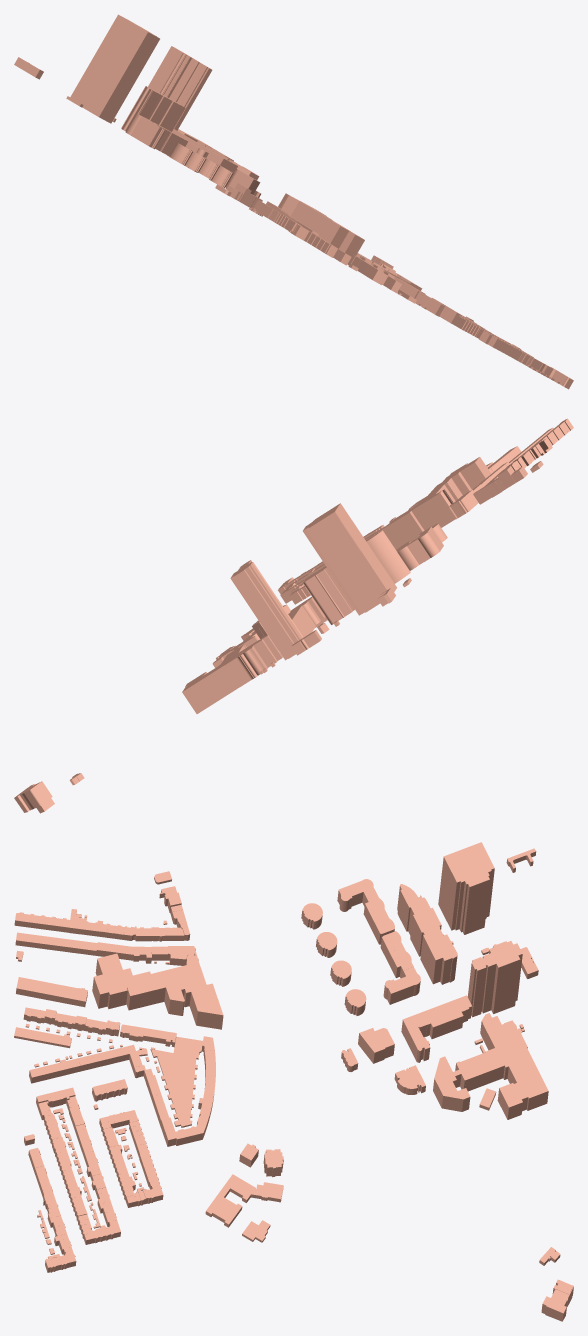
3 views of the same model, one above another, from view 1: azimuth 30°, elevation 25°; view 2: azimuth 150°, elevation 25°; view 3: azimuth 270°, elevation 25° (orthographic). The views are drawn at different scales.
Size of the model in its own units: 494 by 439 by 646.
